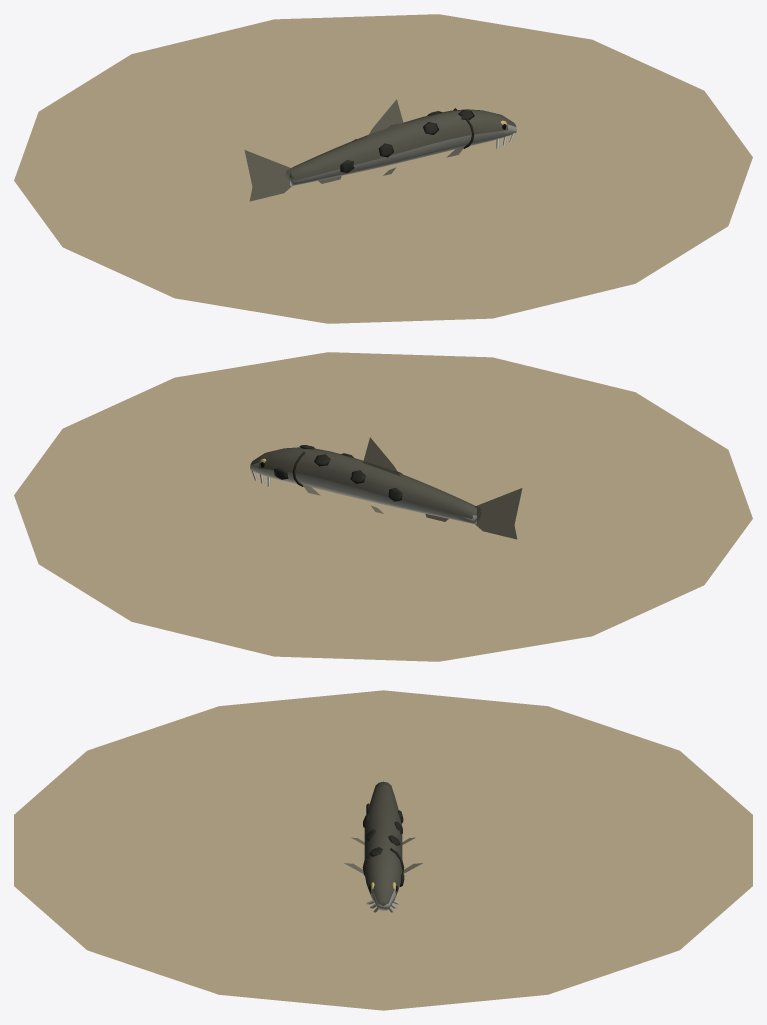
File: lake-loach-grey-shallows-0.glb
3 renders of one model, top to bottom at view 1: azimuth 30°, elevation 25°; view 2: azimuth 150°, elevation 25°; view 3: azimuth 270°, elevation 25°, orthographic. The views are drawn at different scales.
Parts seen in each view (by area): view 1: lake-loach-grey-shallows-0; view 2: lake-loach-grey-shallows-0; view 3: lake-loach-grey-shallows-0.
Boxes of the visible parts, box(x1,y1,x2,y2) form: lake-loach-grey-shallows-0: box(14, 14, 752, 323); lake-loach-grey-shallows-0: box(14, 352, 752, 661); lake-loach-grey-shallows-0: box(14, 690, 752, 1010).
Bounding box in the file's own units: 0.312 × 0.0427 × 0.3042.
